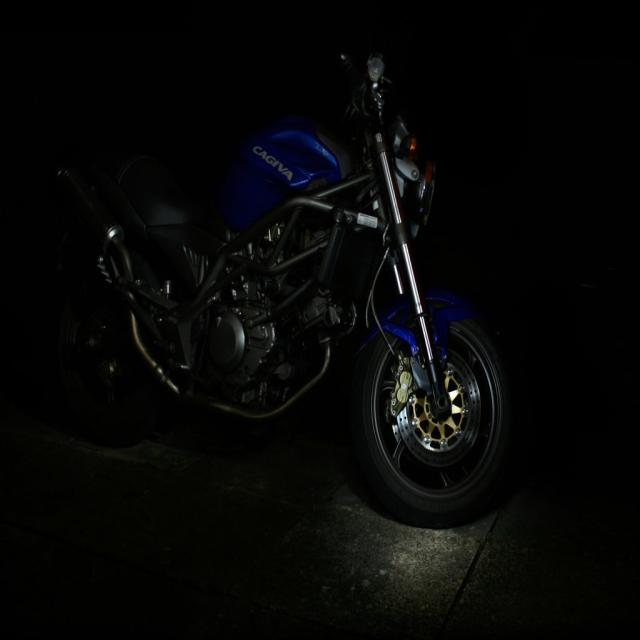Motorbike: (28, 78, 555, 534)
